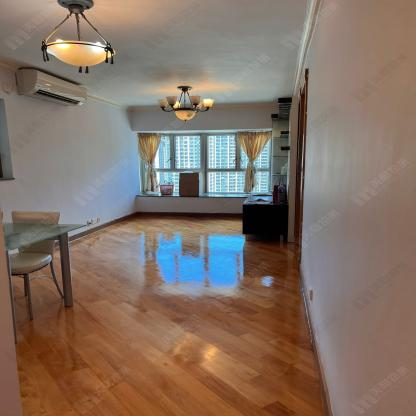AC: (15, 68, 86, 106)
Dining Table: (1, 222, 87, 251)
Windowsill: (132, 128, 273, 197)
